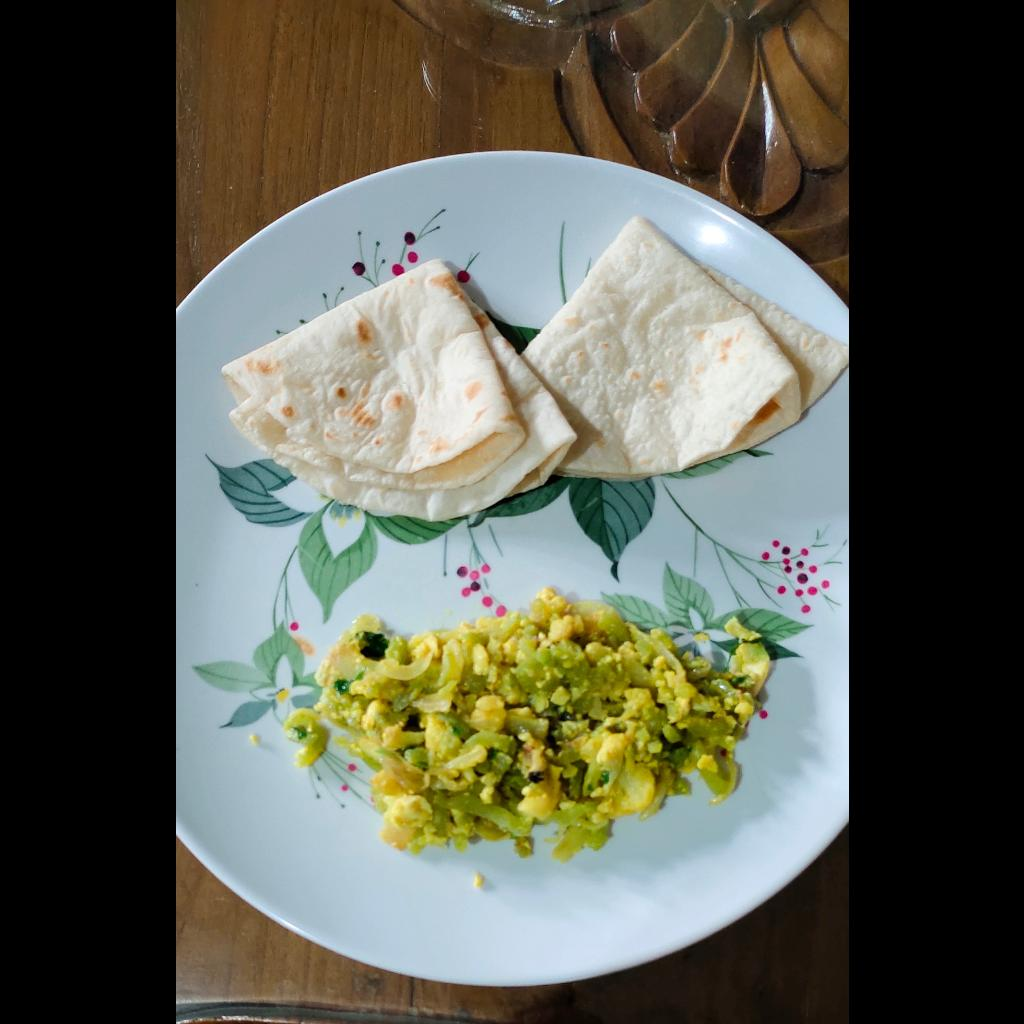chichinga-vaji: (270, 575, 772, 851)
ruti: (215, 205, 848, 521)
